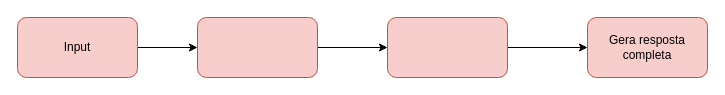
The diagram is 725 pixels wide and 95 high, and some of its shapes have lost their labels. The shapes that lost their labels are listed below. From the top down, each one's centre as x and y in pixels, then its label:
At pixel 257 47: "Draft com partes faltantes".
At pixel 447 47: "Gera perguntas das partes faltantes".
